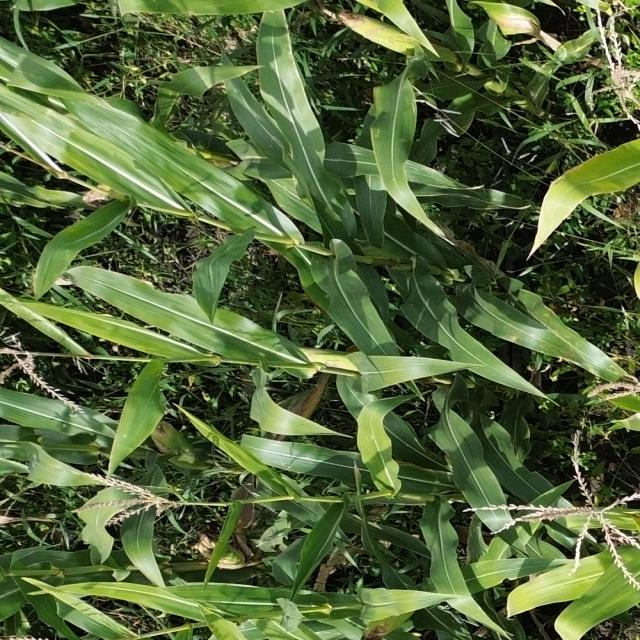gray-leaf-spot: (363, 95, 432, 186)
southern-leaf-blight: (507, 300, 596, 370), (57, 107, 148, 161)
